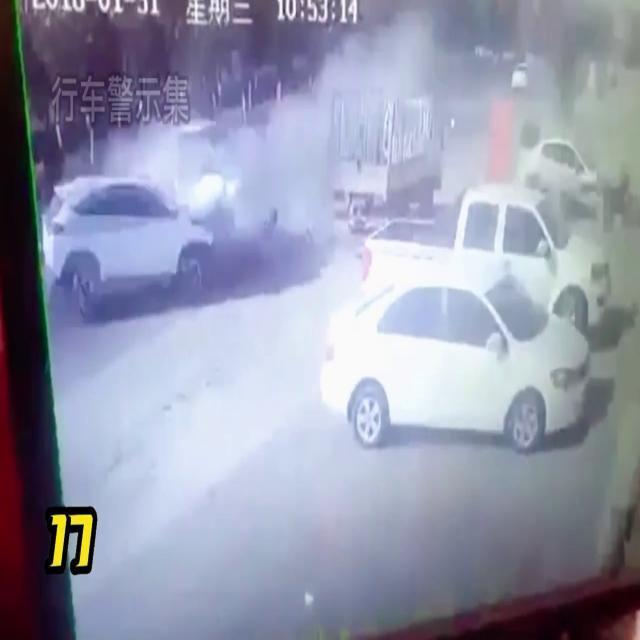accident: (47, 167, 287, 306)
non-accident: (346, 130, 616, 468), (352, 187, 616, 466)
